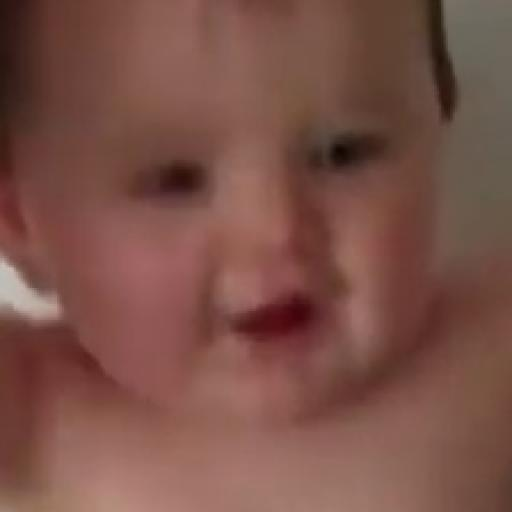Autism: (64, 16, 512, 420)
